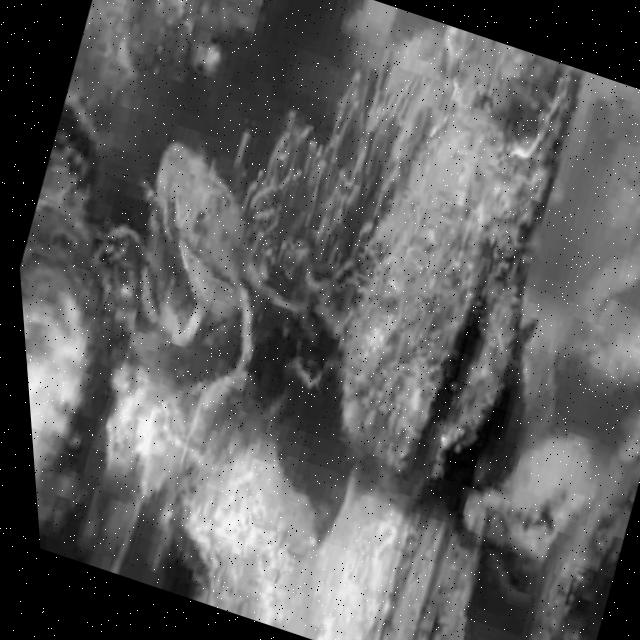Oyster-Indeterminate: (20, 151, 104, 552)
Oyster-Open: (337, 47, 568, 494), (51, 80, 106, 178)
